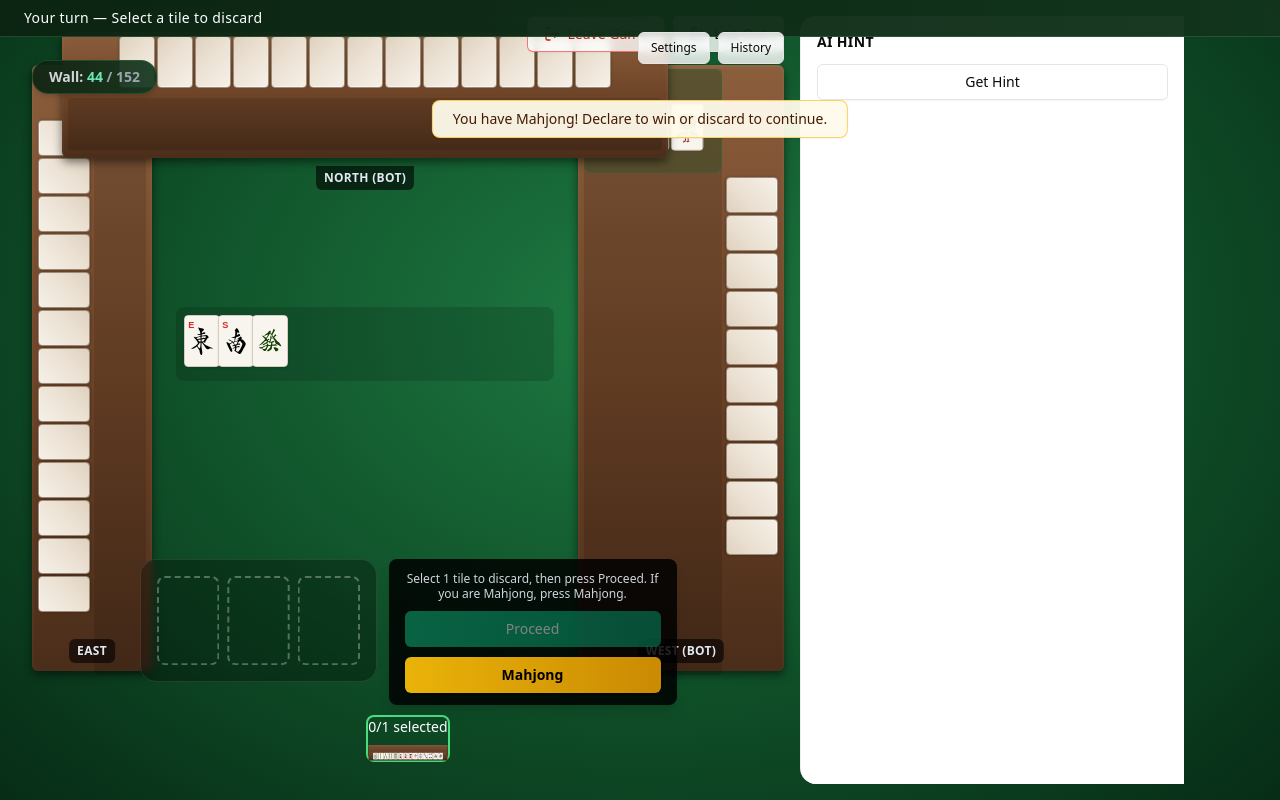
Test: US-024: View Move History (Integration) › opens history panel, shows reverse-chronological entries, filters, and closes
Click the button with test id "history-button" at [751, 48], box [718,32,784,64]
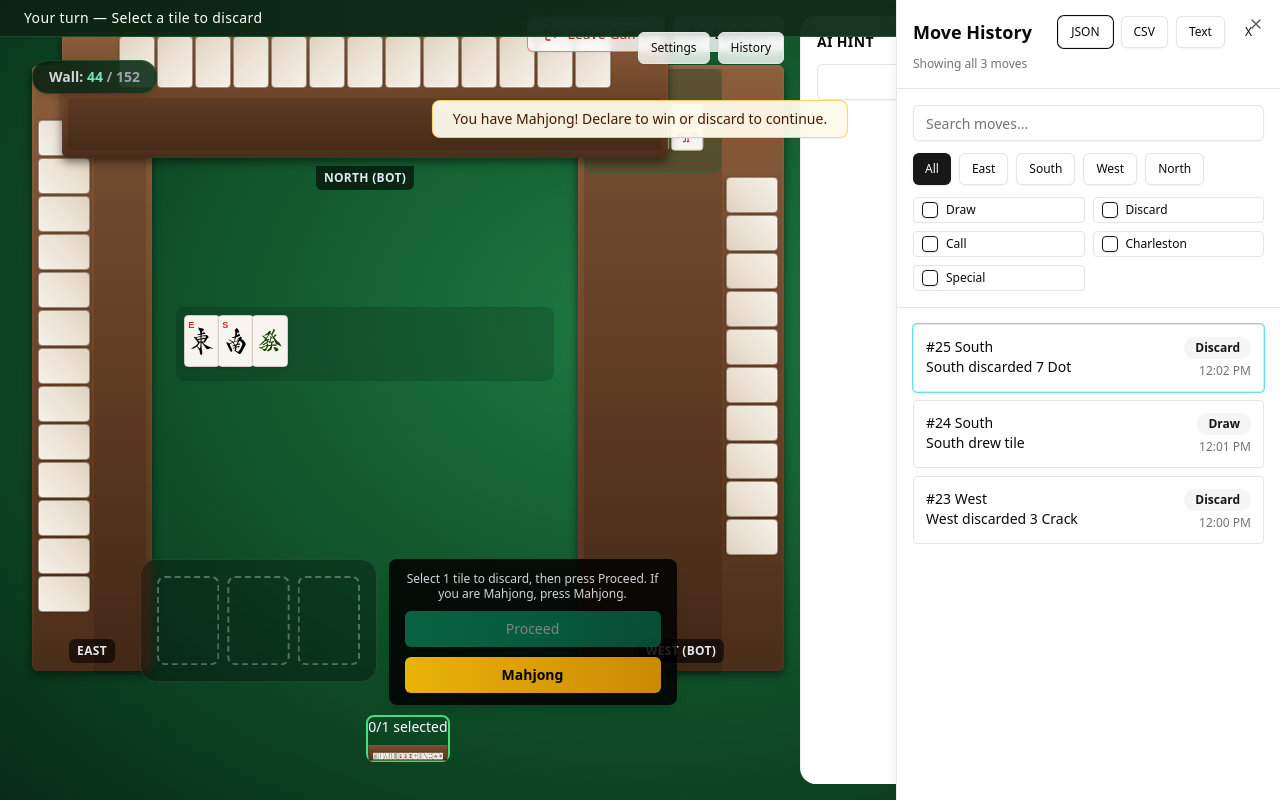
Expected: the dialog named "game move history" is shown, [896,0,1279,799]
Expected: the text "South discarded 7 Dot" is shown, [926,357,1071,377]
Click the checkbox named "Discard filter" at [1110, 210], box [1102,202,1118,218]
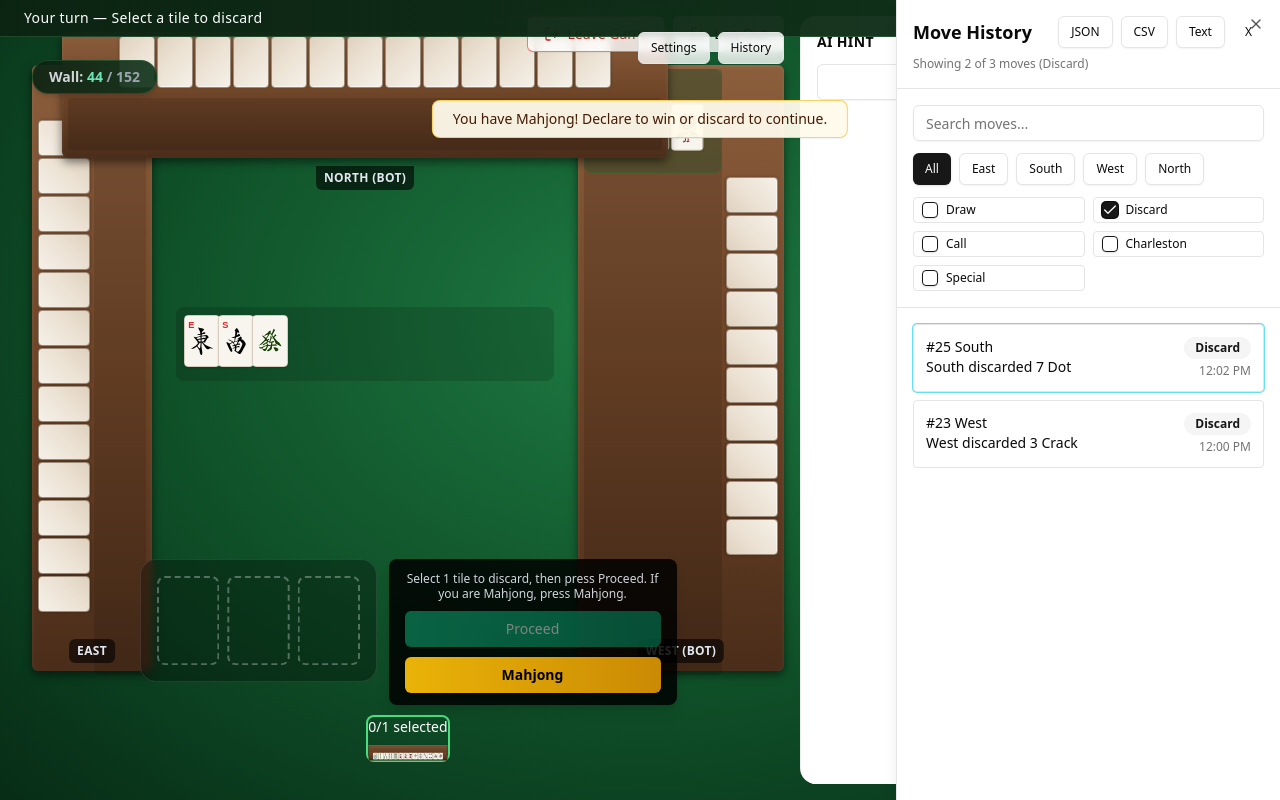
Expected: the text "Showing 2 of 3 moves (Discard)" is shown, [913,55,1088,72]
Expected: the button "South drew tile" is gone
Click the button named "Close history panel" at [1248, 32], box [1233,16,1264,48]
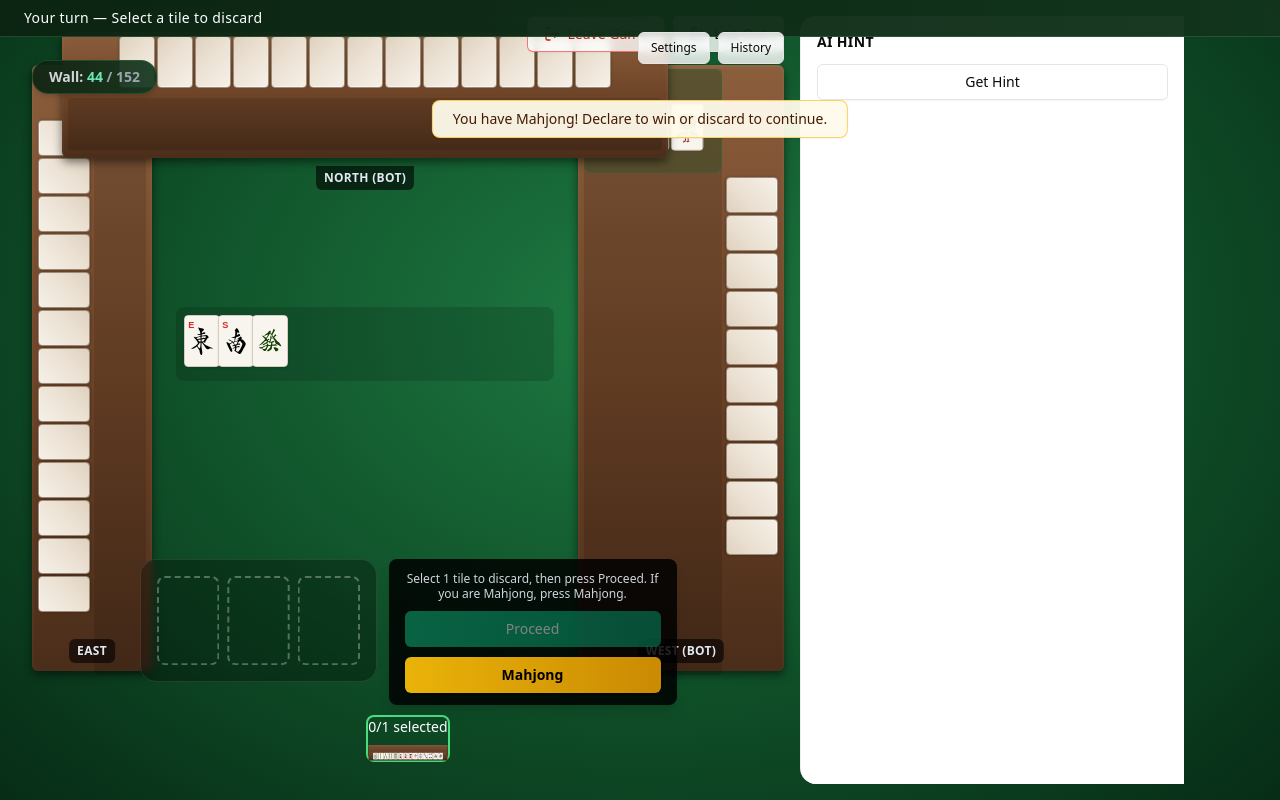
Expected: the heading "Move History" is gone
